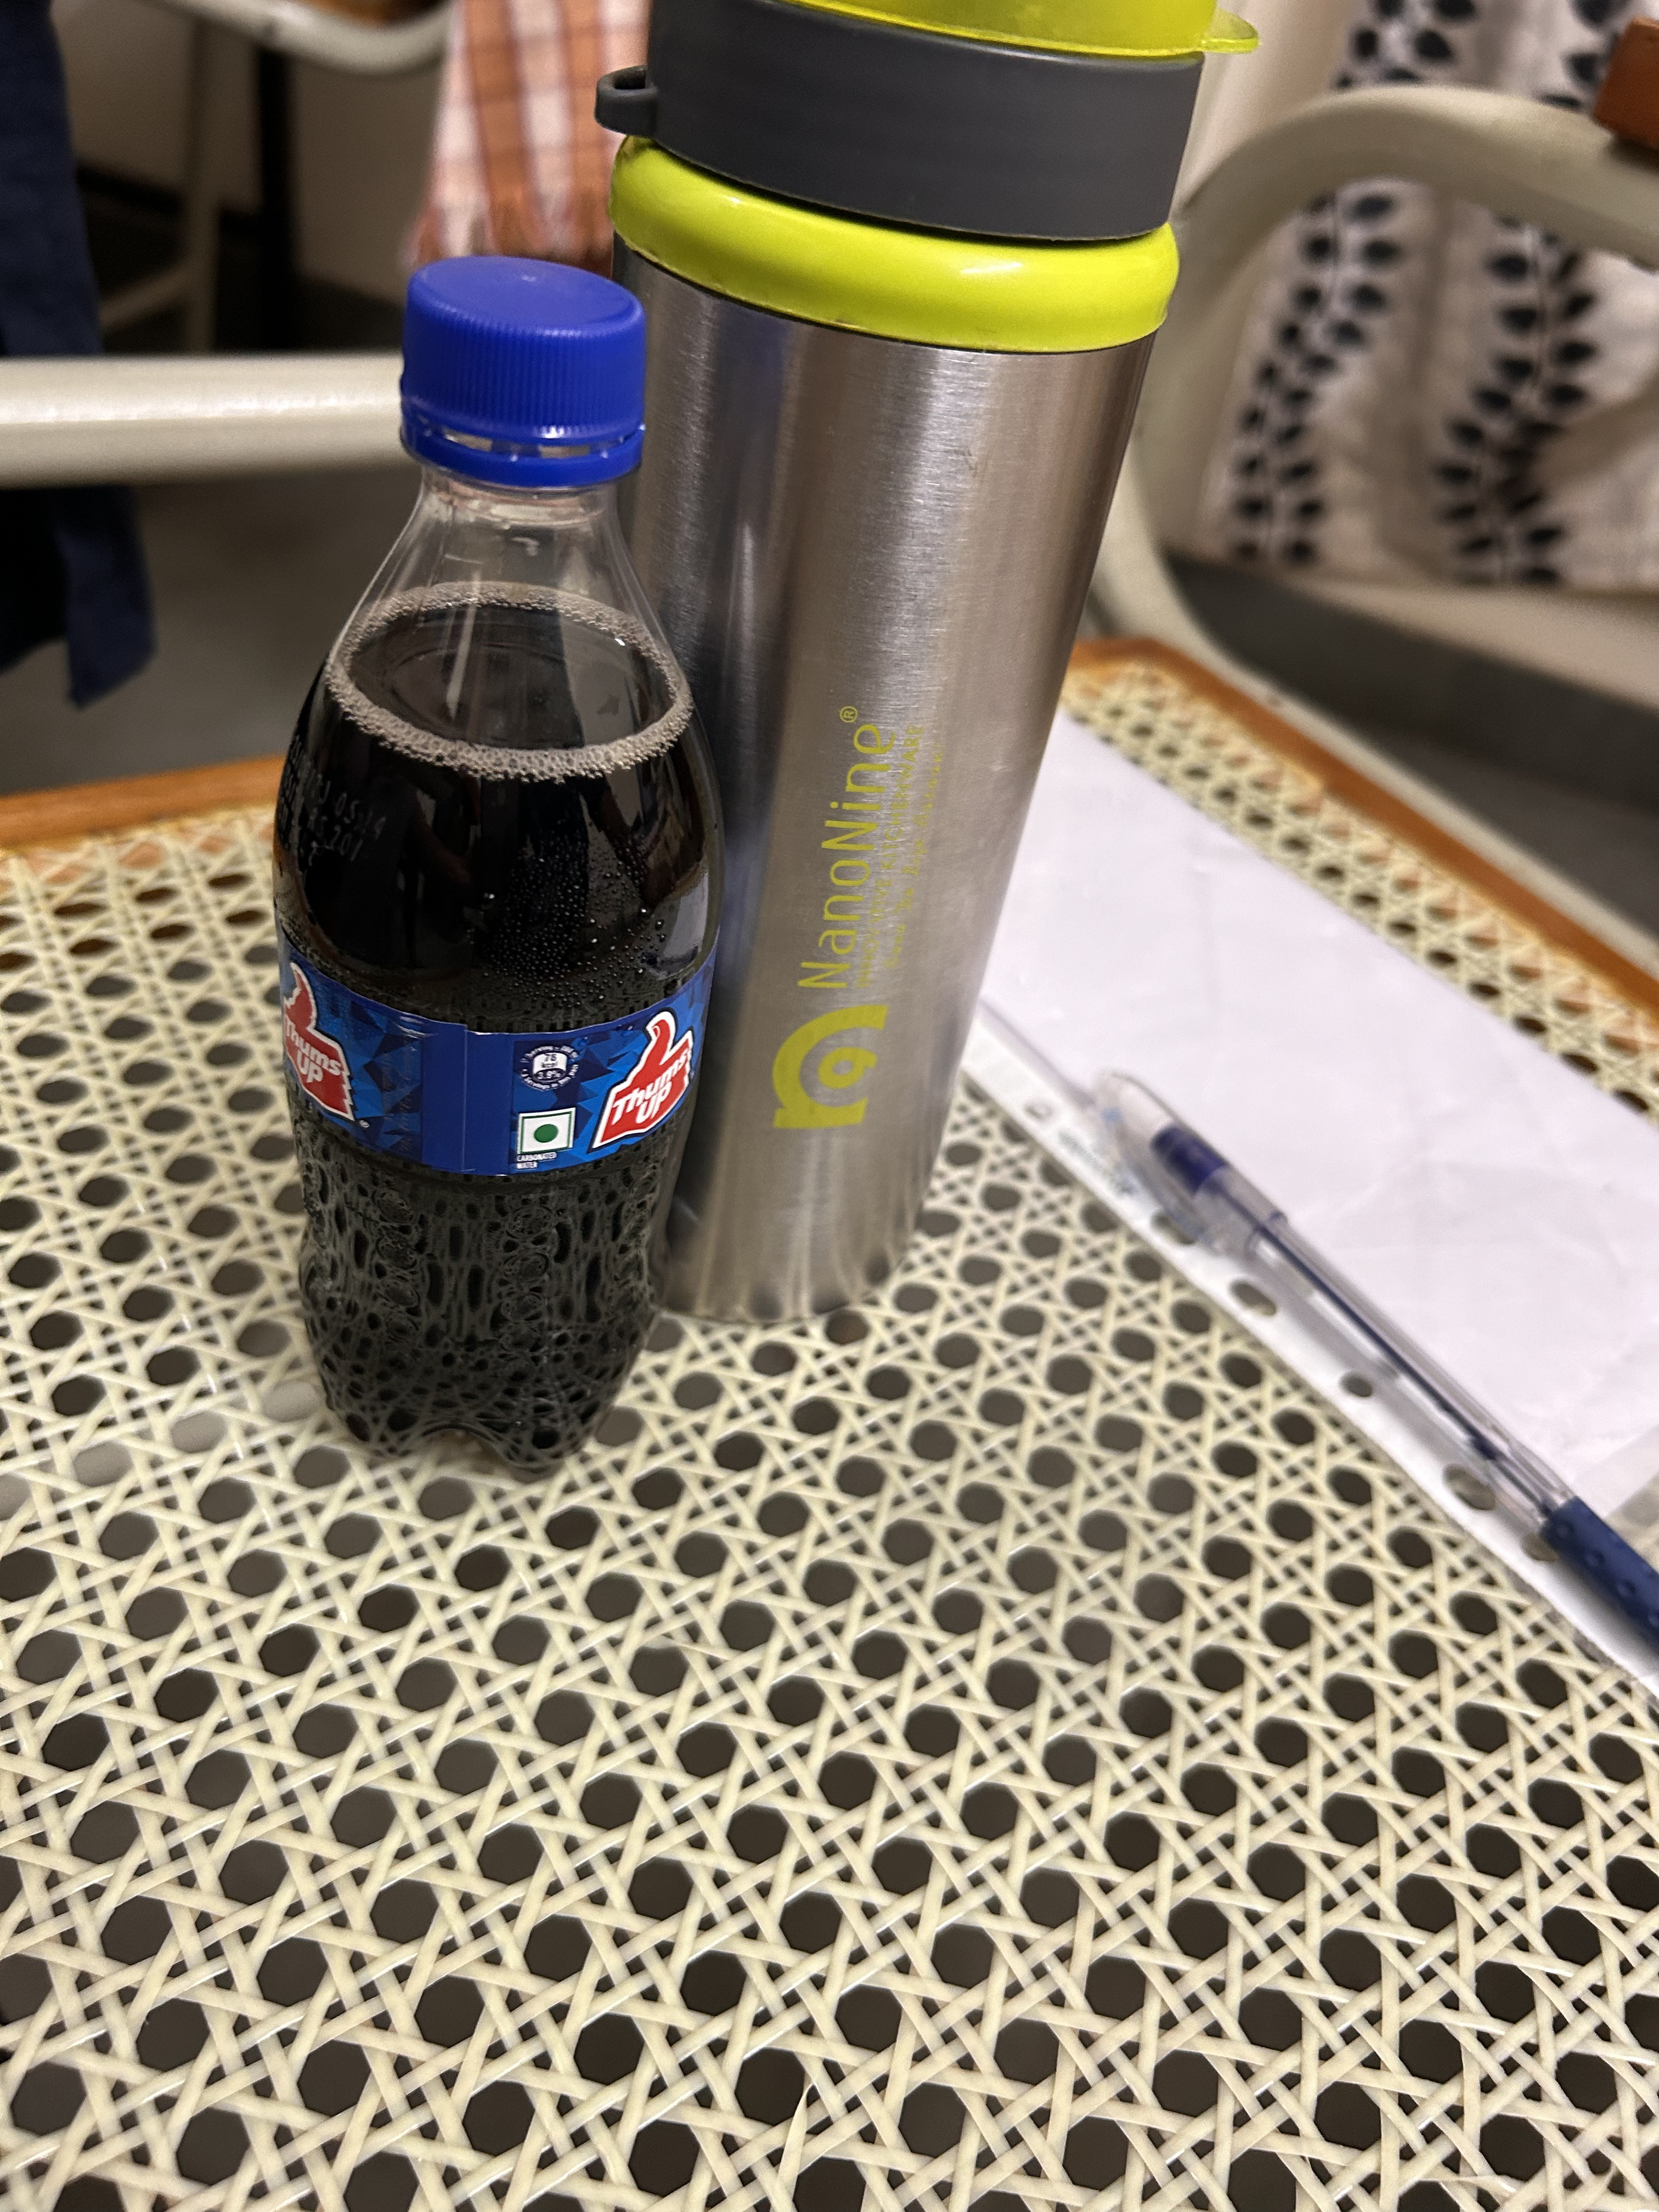unsealed: (387, 253, 659, 512)
